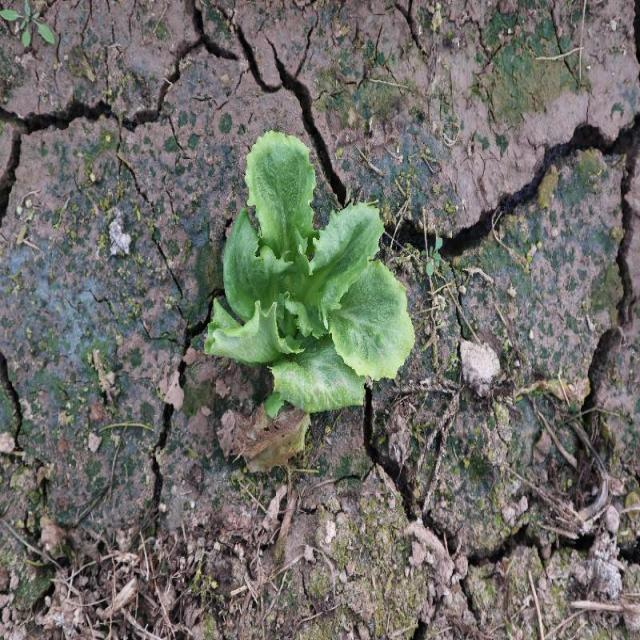crop: (206, 128, 418, 414)
